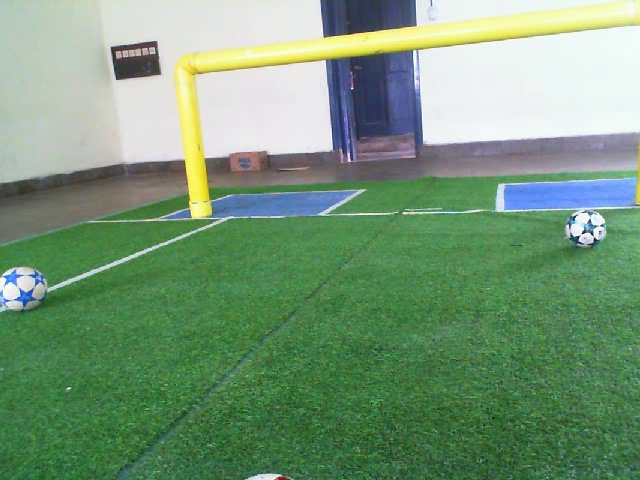ball: (1, 261, 51, 315), (563, 206, 609, 252)
